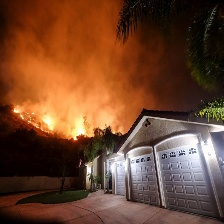fire: (12, 105, 55, 135), (68, 125, 89, 142)
smoke: (6, 1, 193, 119)
